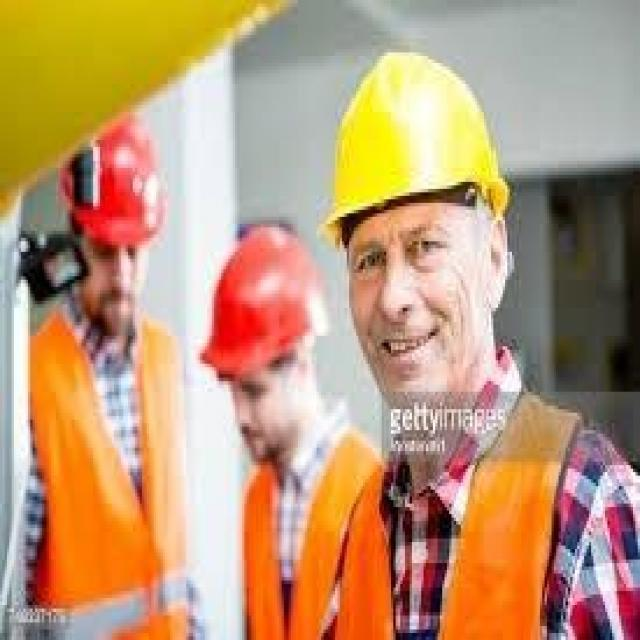helmet: (332, 42, 518, 228), (205, 226, 343, 382), (62, 105, 178, 252)
vest: (332, 391, 636, 640), (20, 297, 188, 640), (243, 422, 389, 640)
